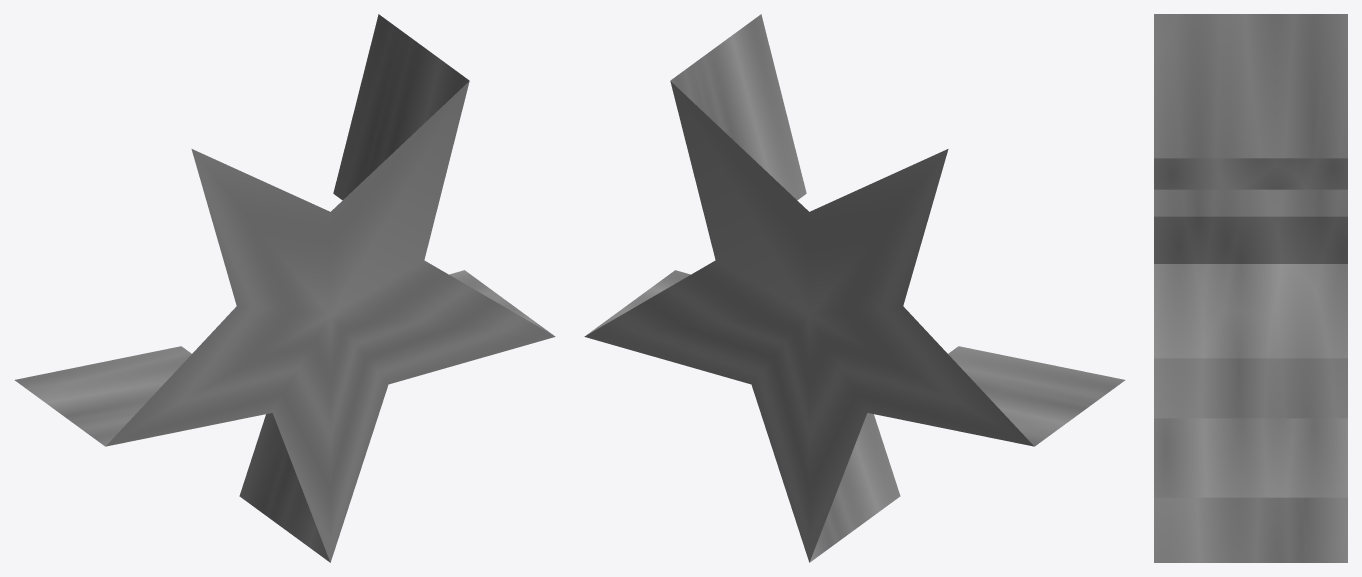
Rendered from star-bright.glb.
3 views of the same model, side by side, from view 1: azimuth 30°, elevation 25°; view 2: azimuth 150°, elevation 25°; view 3: azimuth 270°, elevation 25° (orthographic). The views are drawn at different scales.
Visible parts, largest first — view 1: world; view 2: world; view 3: world.
Boxes of the visible parts, <box> form: world: <box>14,14,555,562</box>; world: <box>584,14,1125,562</box>; world: <box>1154,14,1347,562</box>.
Size of the model in its own units: 1.14 by 1.09 by 0.4.
Materials: 1 (1 with a texture image).
